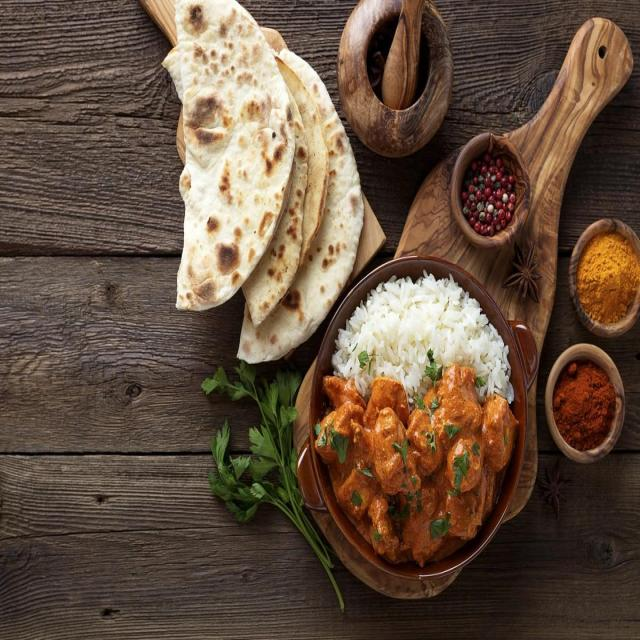chicken: (342, 383, 520, 547)
rice: (340, 285, 510, 379)
roti: (178, 7, 336, 334)
